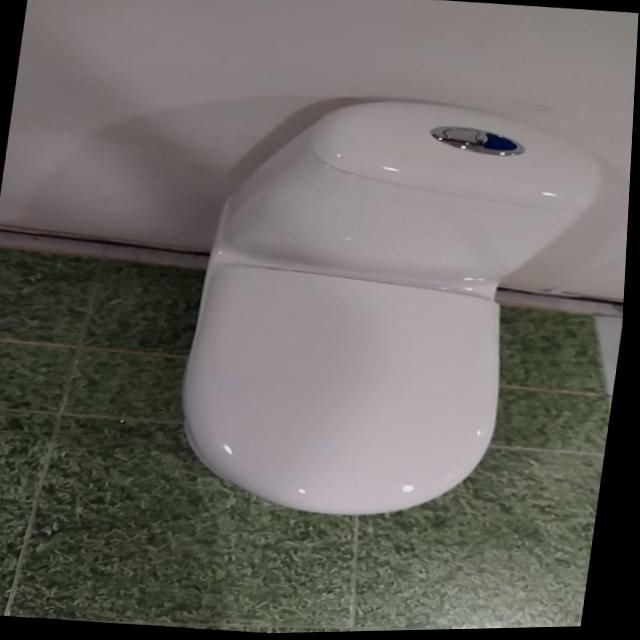toilet: (168, 81, 616, 539)
